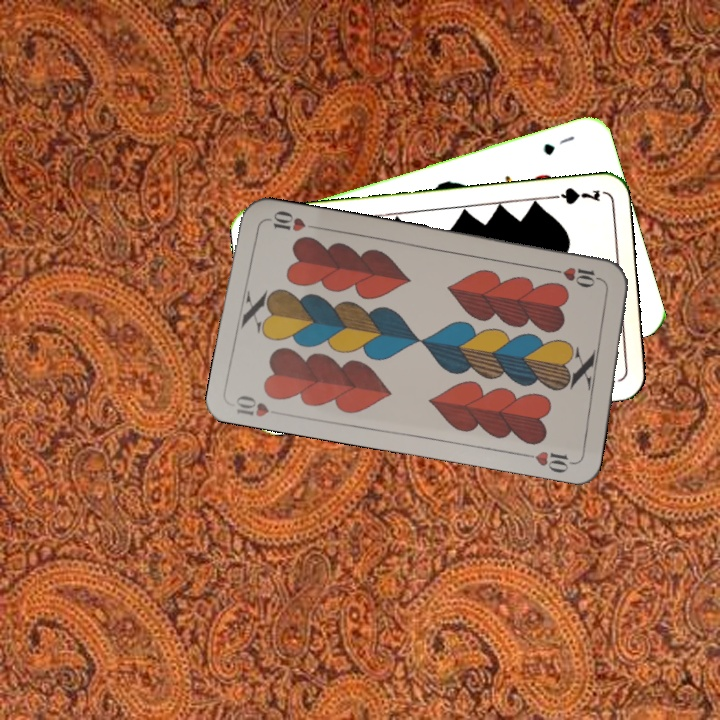G7: (544, 184, 603, 207)
GU: (539, 131, 577, 158)
H10: (548, 263, 607, 290), (231, 391, 272, 420)
